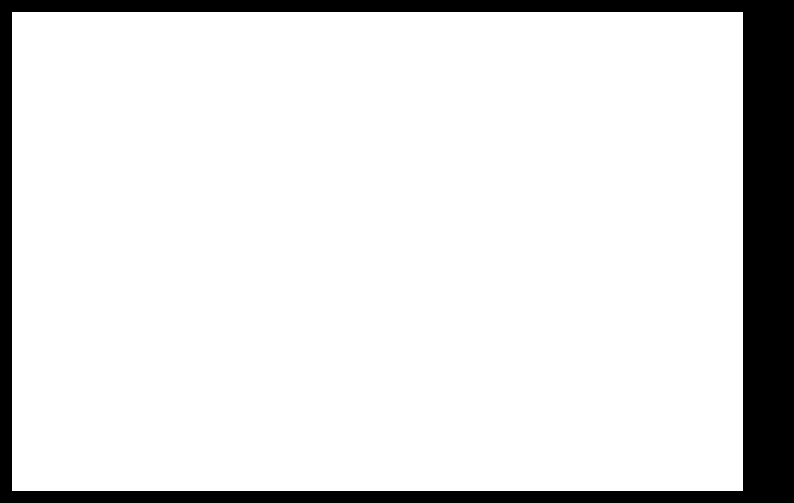table: (12, 12, 742, 490)
